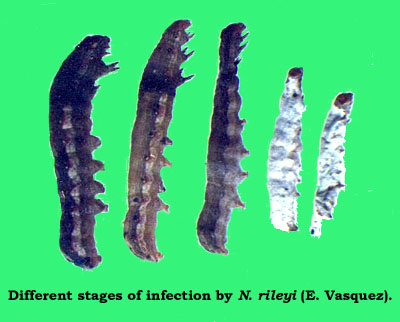Armyworm: (123, 11, 199, 269), (42, 19, 109, 280), (195, 18, 252, 261), (266, 57, 306, 252), (313, 85, 359, 245)
